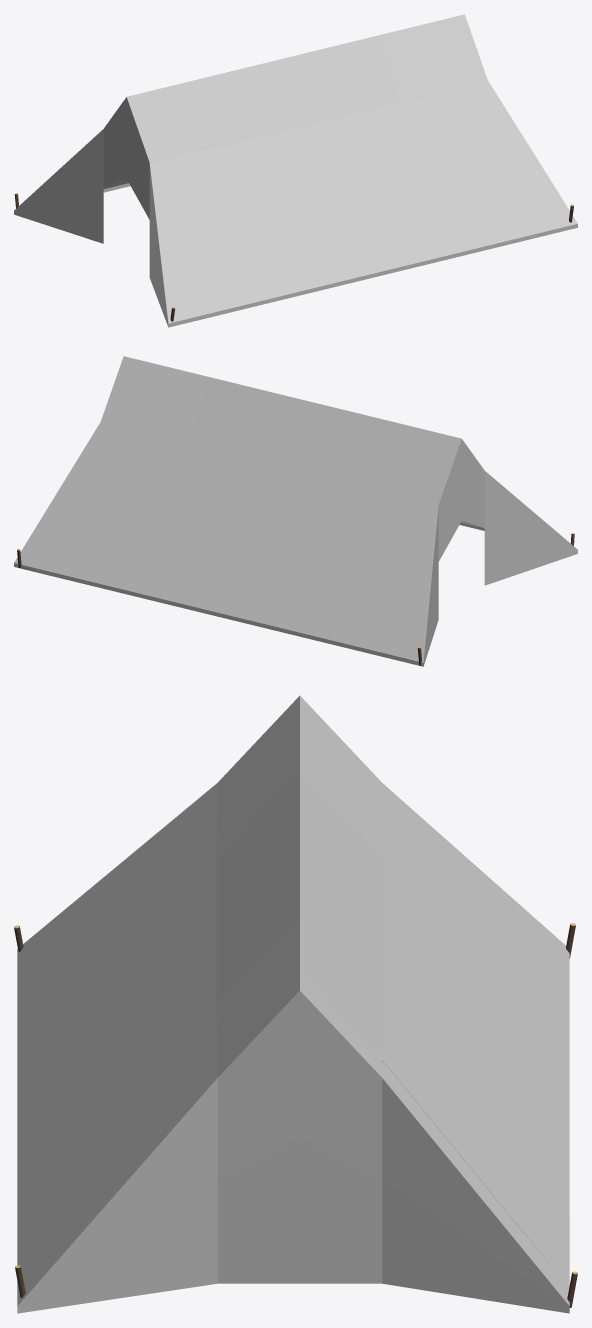
The model's file is Tent_3.fbx.
3 renders of one model, top to bottom at view 1: azimuth 30°, elevation 25°; view 2: azimuth 150°, elevation 25°; view 3: azimuth 270°, elevation 25°, orthographic. The views are drawn at different scales.
Parts seen in each view (by area): view 1: Cube.001; view 2: Cube.001; view 3: Cube.001.
Boxes of the visible parts, left/top/right/bottom form: Cube.001: left=14, top=14, right=577, bottom=327; Cube.001: left=14, top=356, right=577, bottom=666; Cube.001: left=17, top=695, right=569, bottom=1313.
Bounding box in the file's own units: 1028 × 394 × 685.
